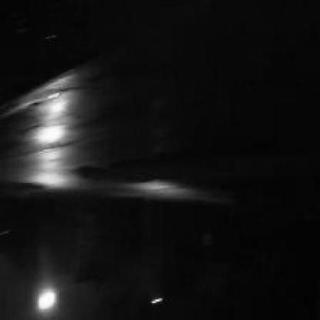other: (42, 91, 58, 192), (32, 283, 65, 315)
